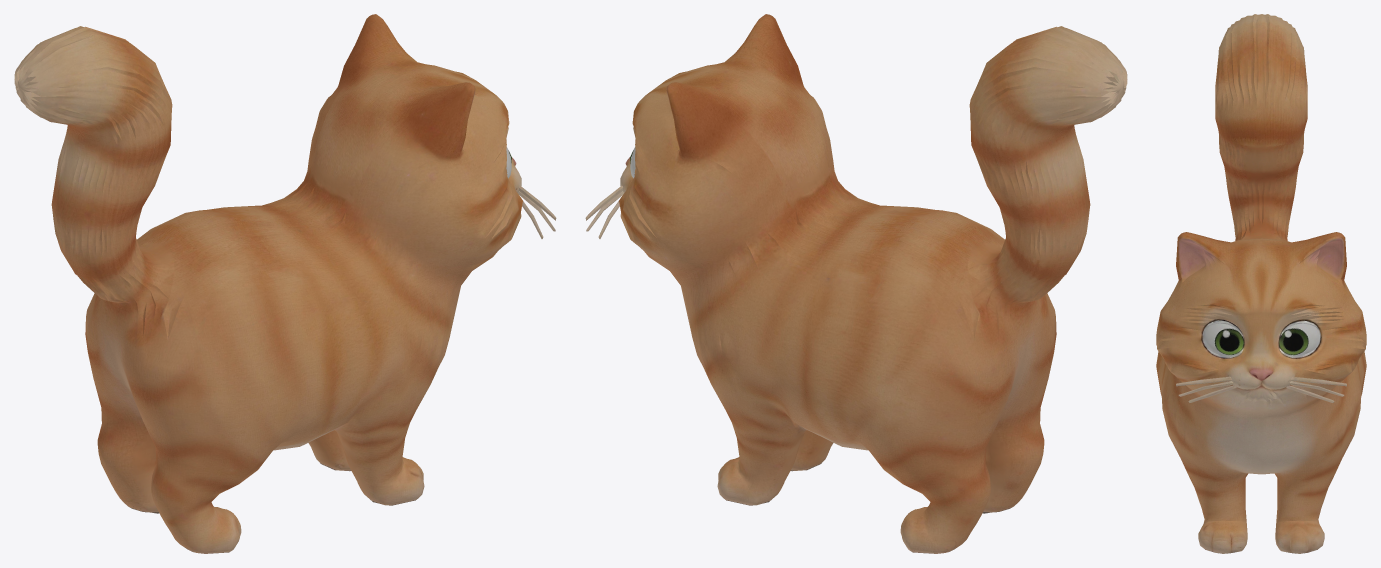
The model's file is cat.glb.
3 views of the same model, side by side, from view 1: azimuth 30°, elevation 25°; view 2: azimuth 150°, elevation 25°; view 3: azimuth 270°, elevation 25° (orthographic). The views are drawn at different scales.
Visible parts, largest first — view 1: 56fa522a-d301-4d10-811b-1797ef8c999e_1; view 2: 56fa522a-d301-4d10-811b-1797ef8c999e_1; view 3: 56fa522a-d301-4d10-811b-1797ef8c999e_1.
Boxes of the visible parts, <box> form: 56fa522a-d301-4d10-811b-1797ef8c999e_1: <box>14,14,556,553</box>; 56fa522a-d301-4d10-811b-1797ef8c999e_1: <box>585,14,1127,553</box>; 56fa522a-d301-4d10-811b-1797ef8c999e_1: <box>1156,14,1366,553</box>.
Bounding box in the file's own units: 1 × 1 × 0.4599.
Materials: 1 (1 with a texture image).
